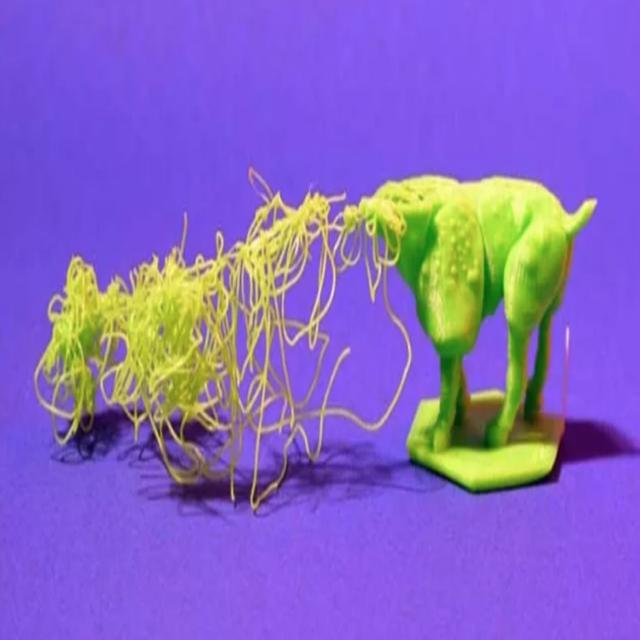spaghetti: (62, 188, 373, 484)
